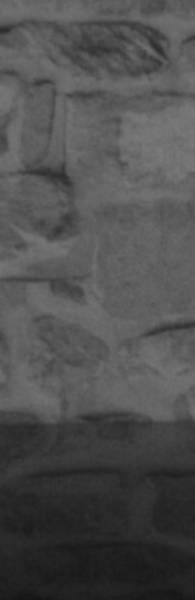water: (0, 423, 195, 600)
